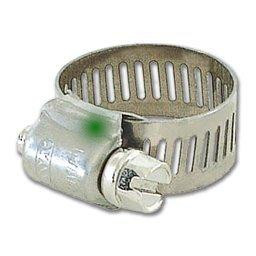focus: (80, 112, 110, 140)
